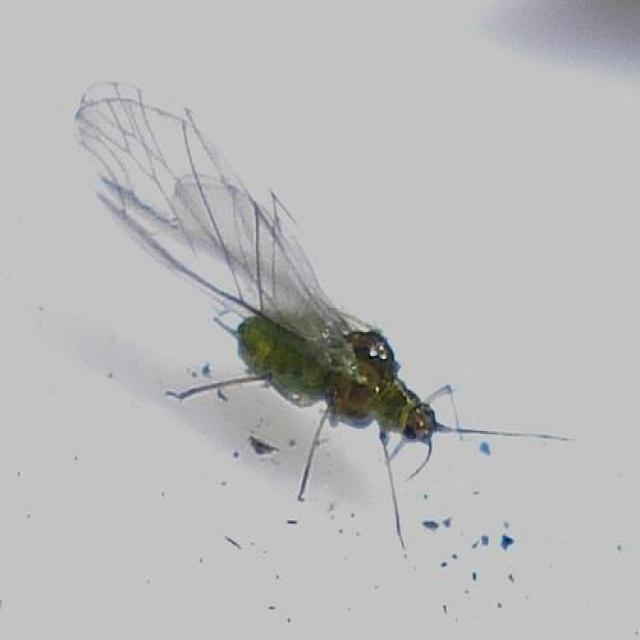Aphids: (60, 100, 587, 542)
